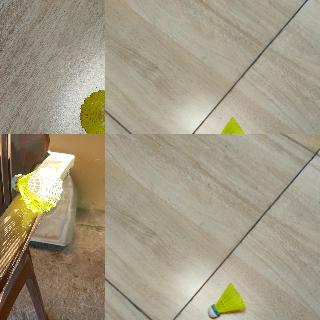shuttlecock: (11, 167, 62, 213), (207, 282, 245, 319), (81, 89, 104, 133), (209, 116, 247, 133)
